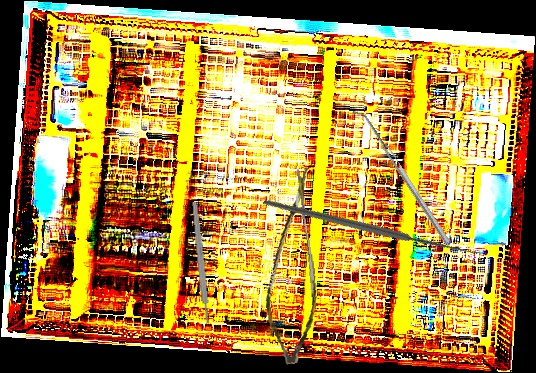Hook Surgical: (262, 113, 487, 335)
Micro Scissor: (247, 166, 336, 367)
Scalpel Handle: (191, 201, 211, 324)
Spatula Surgical: (352, 105, 450, 248)
